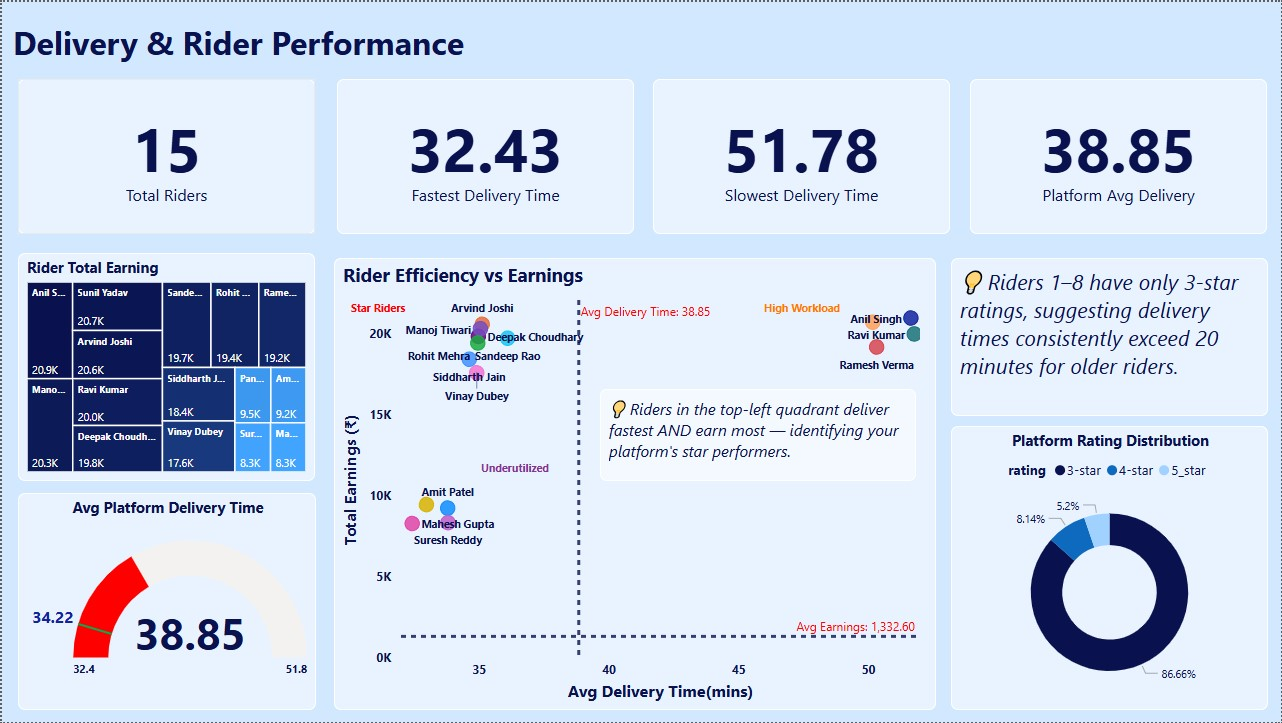

The page's visual inventory and layout, read from the dashboard file:
{"tool":"powerbi","page":{"name":"Delivery_and_Rider Performance","canvas":[1280,720],"ordinal":3},"visuals":[{"type":"textbox","box":[5.8,12.6,575.8,64.2],"z":0},{"type":"card","title":"Total Platform Revenue","fields":{"Values":["Avg(rider_average_delivery_time.time_difference)"]},"box":[967.8,76.8,297.6,155.6],"z":1000},{"type":"card","title":"Total Platform Revenue","fields":{"Values":["Max(rider_average_delivery_time.time_difference)"]},"box":[650.7,76.8,297.6,155.6],"z":2000},{"type":"card","title":"Total Platform Revenue","fields":{"Values":["Min(rider_average_delivery_time.time_difference)"]},"box":[334.6,76.8,297.6,155.6],"z":3000},{"type":"card","title":"Total Platform Revenue","fields":{"Values":["rider_average_delivery_time.Total Riders"]},"box":[15.6,76.8,297.6,155.6],"z":4000},{"type":"treemap","title":"Rider Total Earning","fields":{"Values":["Sum(rider_monthly_earnings.total_earning)"],"Group":["rider_average_delivery_time.rider_name"]},"box":[15.6,250.9,297.6,227.6],"z":5000},{"type":"donutChart","title":"Platform Rating Distribution","fields":{"Category":["rider_rating_analysis.rating"],"Y":["Avg(rider_rating_analysis.total_stars)"]},"box":[949,424,317,284],"z":6000},{"type":"scatterChart","title":"Rider Efficiency vs Earnings","fields":{"X":["Avg(rider_average_delivery_time.time_difference)"],"Y":["Sum(rider_monthly_earnings.total_earning)"],"Category":["rider_average_delivery_time.rider_name"],"Series":["rider_average_delivery_time.rider_name"]},"box":[332,256,602,452],"z":7000},{"type":"textbox","box":[344,291.3,90,30.7],"z":8000},{"type":"textbox","box":[474,451,90,31],"z":9000},{"type":"textbox","box":[757,291,97,39],"z":10000},{"type":"gauge","title":"Avg Platform Delivery Time","fields":{"Y":["rider_average_delivery_time.Avg Delivery time"],"TargetValue":["rider_average_delivery_time.Target Delivery Time"],"MinValue":["Min(rider_average_delivery_time.time_difference)"],"MaxValue":["Max(rider_average_delivery_time.time_difference)1"]},"box":[16,491,298,217],"z":11000},{"type":"textbox","box":[949,256,317,158],"z":12000},{"type":"textbox","box":[597.8,386.7,316.7,92.2],"z":13000}]}

Visuals, with their boxes in screenshot pixels (x1, y1, x2, y2), scaled from the page's 1280x720 canvas onto the 1282x723 screenshot:
textbox: <bbox>6, 13, 583, 77</bbox>
"Total Platform Revenue" card: <bbox>969, 77, 1267, 233</bbox>
"Total Platform Revenue" card: <bbox>652, 77, 950, 233</bbox>
"Total Platform Revenue" card: <bbox>335, 77, 633, 233</bbox>
"Total Platform Revenue" card: <bbox>16, 77, 314, 233</bbox>
"Rider Total Earning" treemap: <bbox>16, 252, 314, 480</bbox>
"Platform Rating Distribution" donutChart: <bbox>950, 426, 1268, 711</bbox>
"Rider Efficiency vs Earnings" scatterChart: <bbox>333, 257, 935, 711</bbox>
textbox: <bbox>345, 293, 435, 323</bbox>
textbox: <bbox>475, 453, 565, 484</bbox>
textbox: <bbox>758, 292, 855, 331</bbox>
"Avg Platform Delivery Time" gauge: <bbox>16, 493, 314, 711</bbox>
textbox: <bbox>950, 257, 1268, 416</bbox>
textbox: <bbox>599, 388, 916, 481</bbox>
